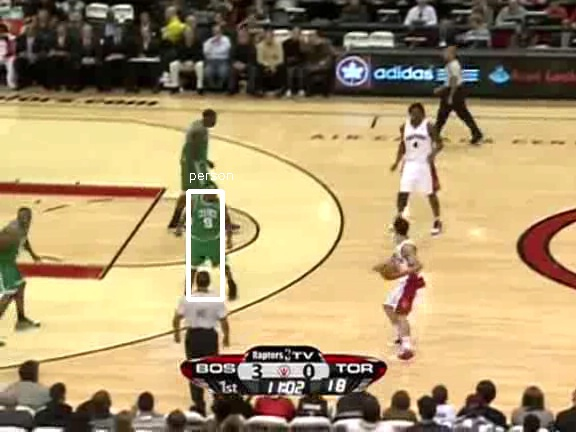person: (191, 193, 225, 274), (190, 193, 224, 274), (192, 193, 226, 274), (191, 192, 225, 273), (191, 194, 225, 275)
target_negative: (257, 102, 314, 343), (495, 259, 574, 423), (451, 144, 544, 252), (147, 389, 508, 399), (434, 377, 545, 402), (531, 399, 562, 411)
